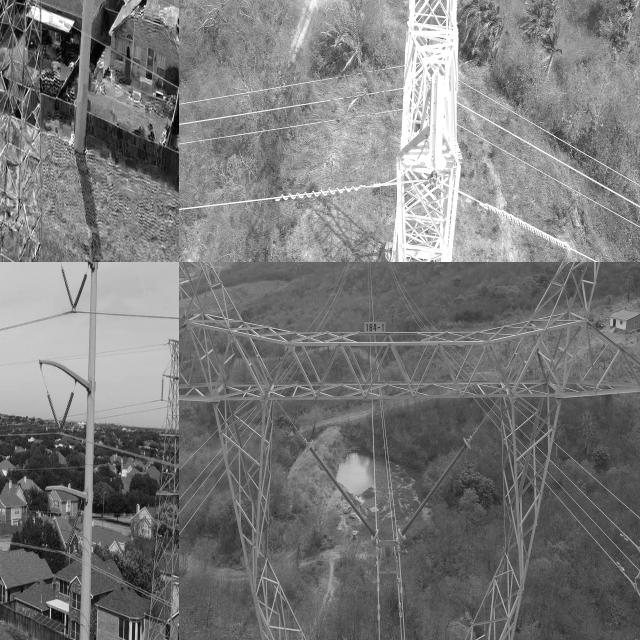杆塔: (179, 262, 640, 640), (383, 0, 468, 262), (136, 326, 179, 640), (0, 0, 51, 262)
正常电缆: (554, 476, 638, 573), (555, 462, 638, 552), (553, 491, 630, 583), (559, 442, 640, 525), (179, 475, 223, 545), (179, 450, 220, 506), (179, 463, 220, 518), (179, 429, 217, 477)
正常绝缘子: (397, 432, 473, 544), (305, 439, 380, 541), (51, 508, 83, 557), (46, 390, 76, 437), (60, 266, 89, 312), (159, 372, 165, 403)
